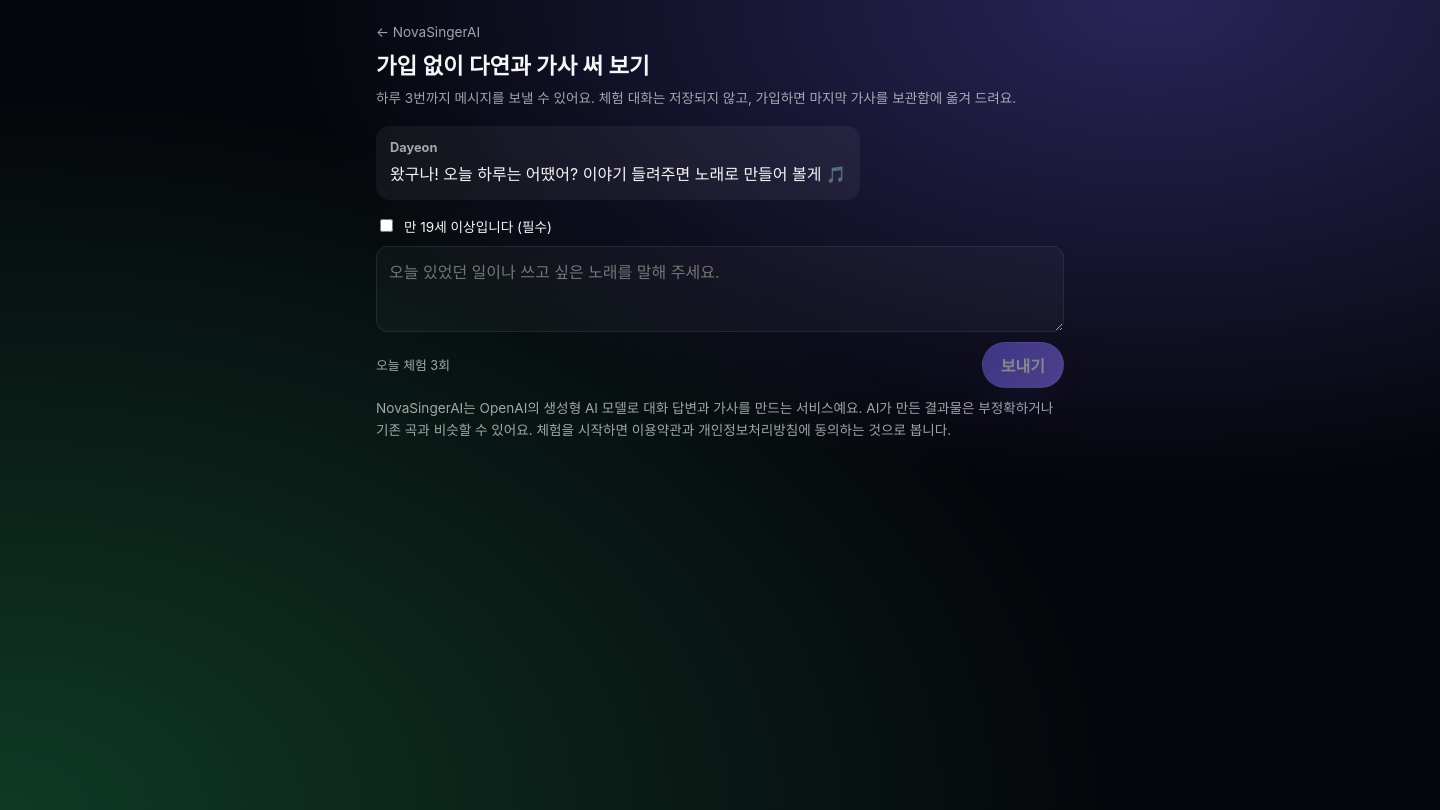
Test: /try › needs the adult checkbox before sending
The width and height of the screenshot is (1440, 810).
In the text box with placeholder "오늘 있었던 일이나 쓰고 싶은 노래를 말해 주세요.": (720, 289) 376,246 -> 1064,332, type "안녕"
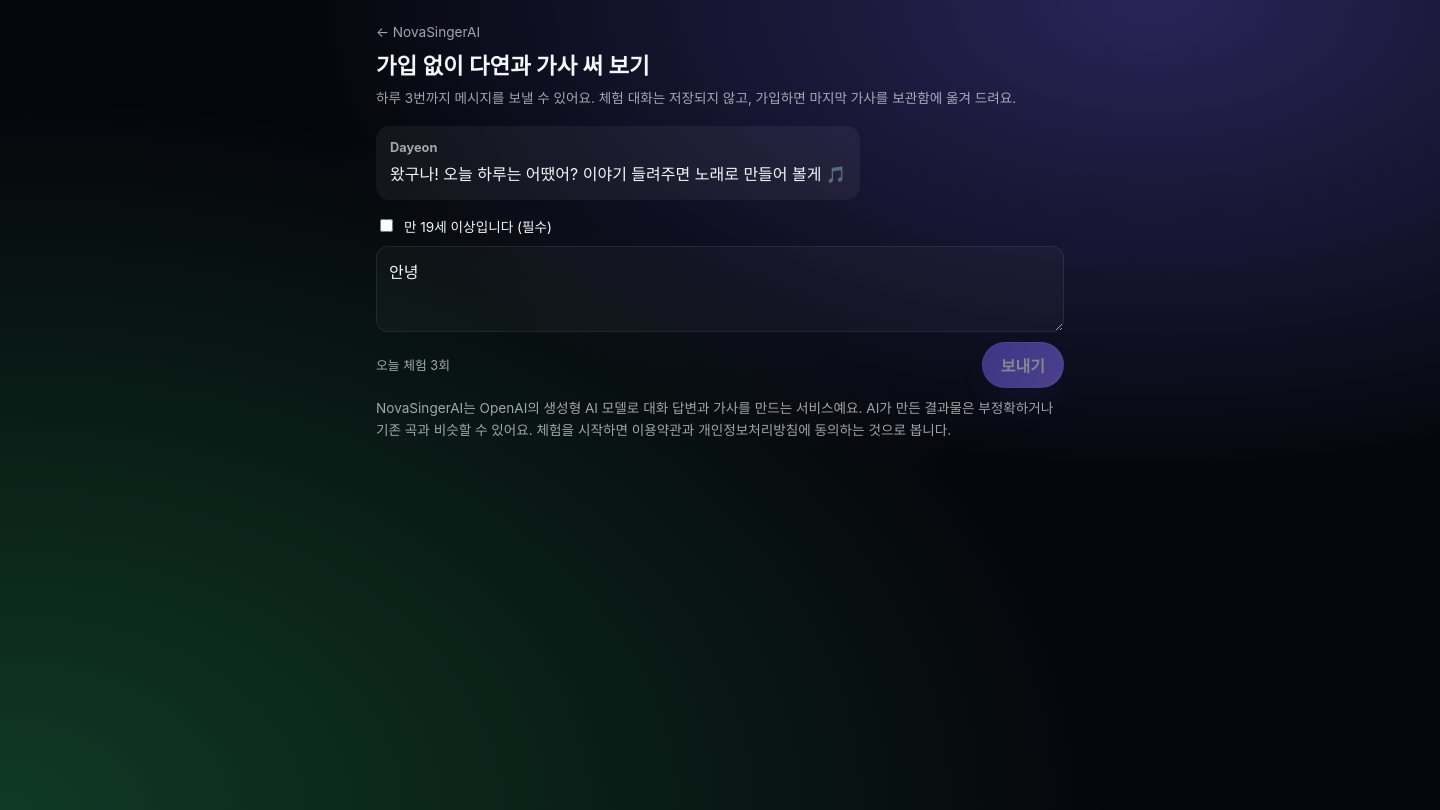
expect the button "보내기" is disabled: met, box 982,342 -> 1064,388
Click the checkbox labelled "만 19세 이상입니다 (필수)": (386, 226) 380,219 -> 393,232
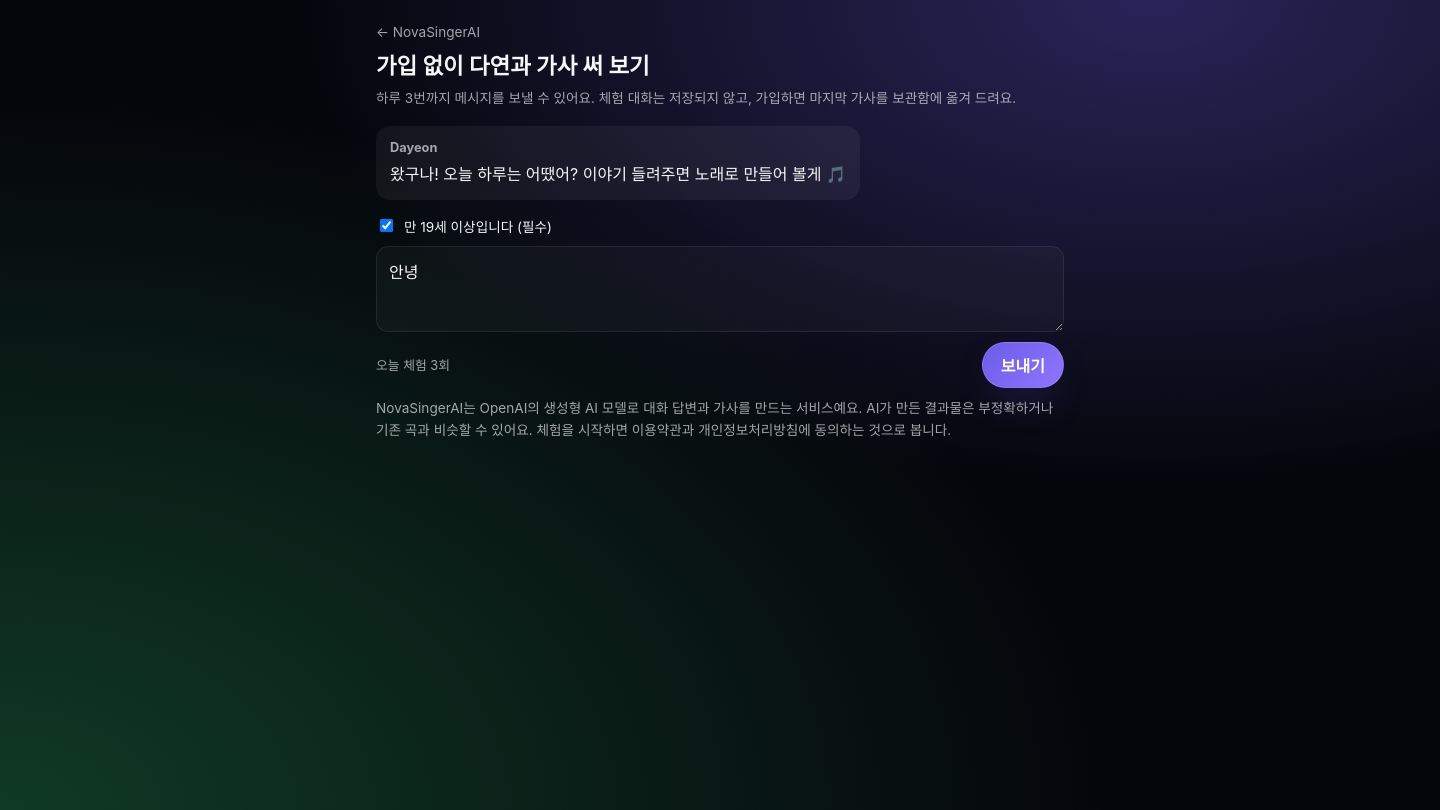
Click the button "보내기": (1023, 365) 982,342 -> 1064,388
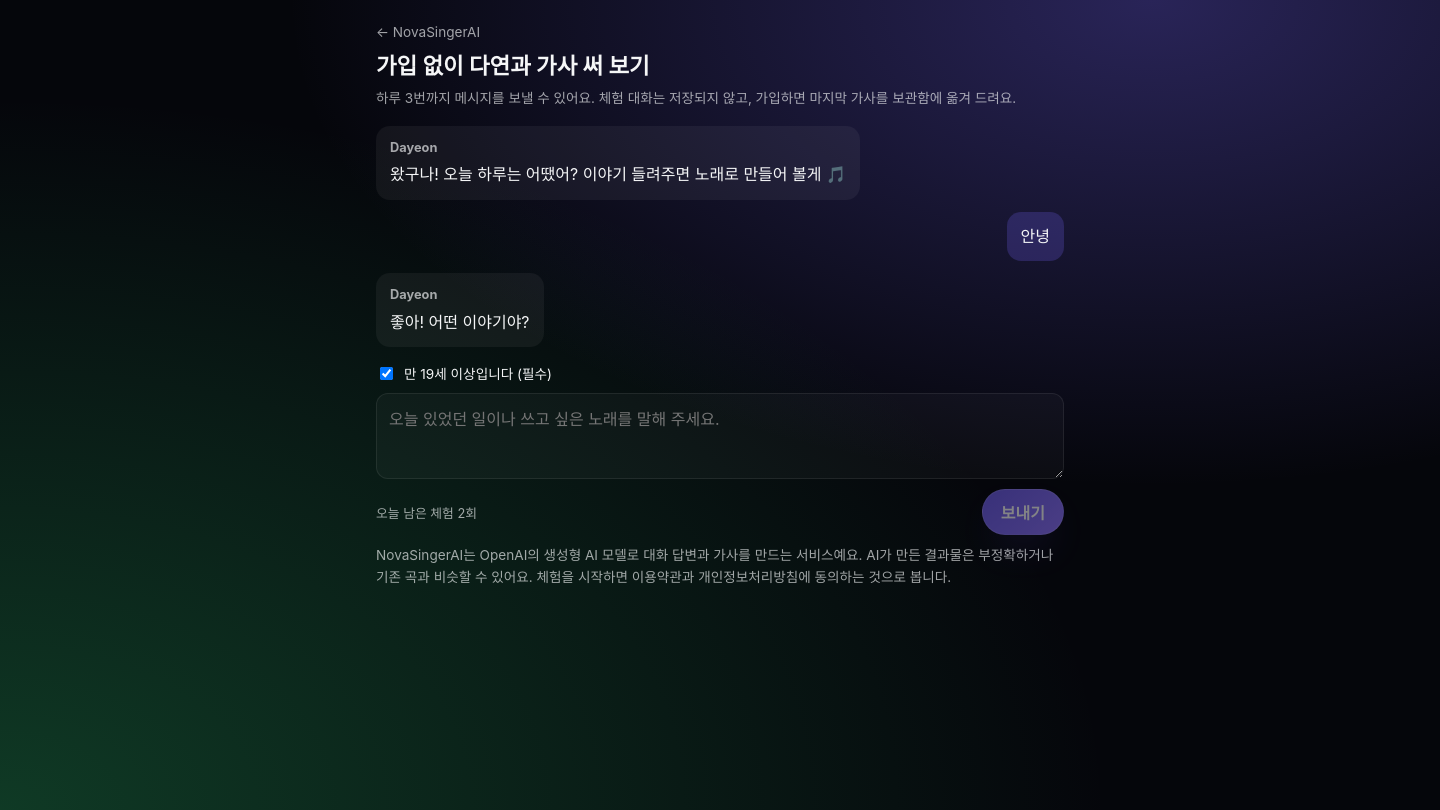
expect the text "좋아! 어떤 이야기야?" is shown: met, box 390,310 -> 530,336
expect the text "오늘 남은 체험 2회" is shown: met, box 376,503 -> 477,522
